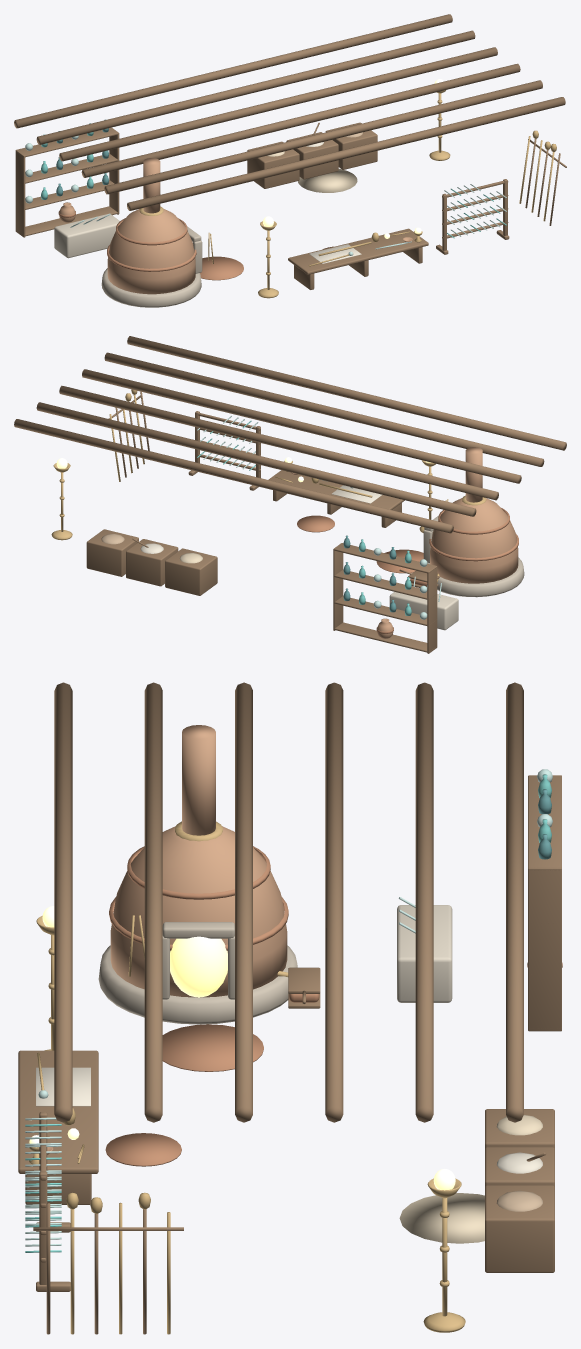
The model's file is glassworks.glb.
3 views of the same model, one above another, from view 1: azimuth 30°, elevation 25°; view 2: azimuth 150°, elevation 25°; view 3: azimuth 270°, elevation 25° (orthographic). The views are drawn at different scales.
Visible parts, largest first — view 1: Glassworks; view 2: Glassworks; view 3: Glassworks.
Part boxes in pixels (<box>): Glassworks: <box>14,14,566,307</box>; Glassworks: <box>14,336,566,653</box>; Glassworks: <box>18,682,562,1334</box>.
Size of the model in its own units: 10 by 2.76 by 5.43.
